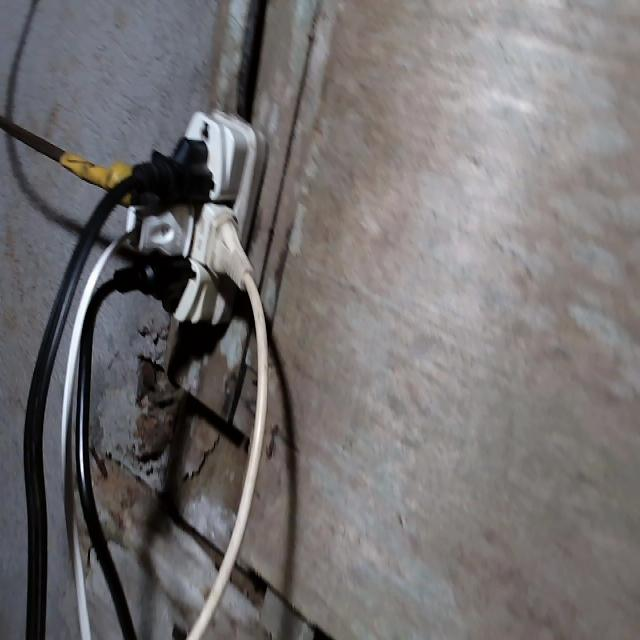-: (124, 100, 266, 323)
